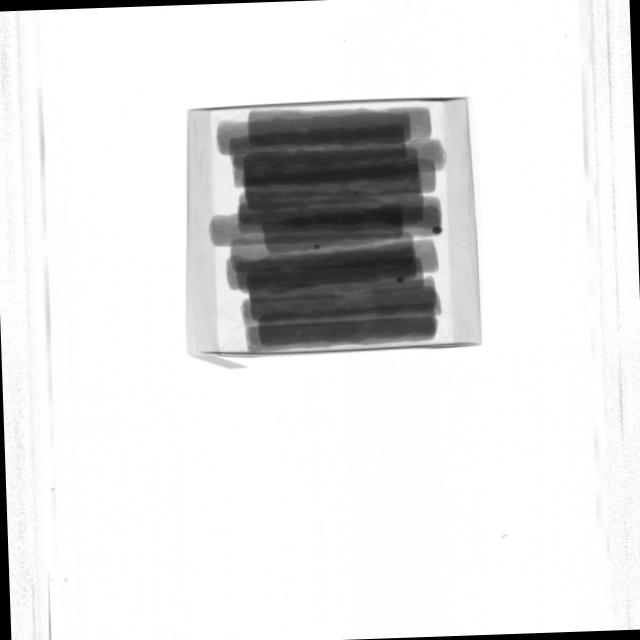ym: (432, 226, 443, 235), (396, 276, 404, 282), (314, 244, 321, 249), (353, 192, 358, 196)
